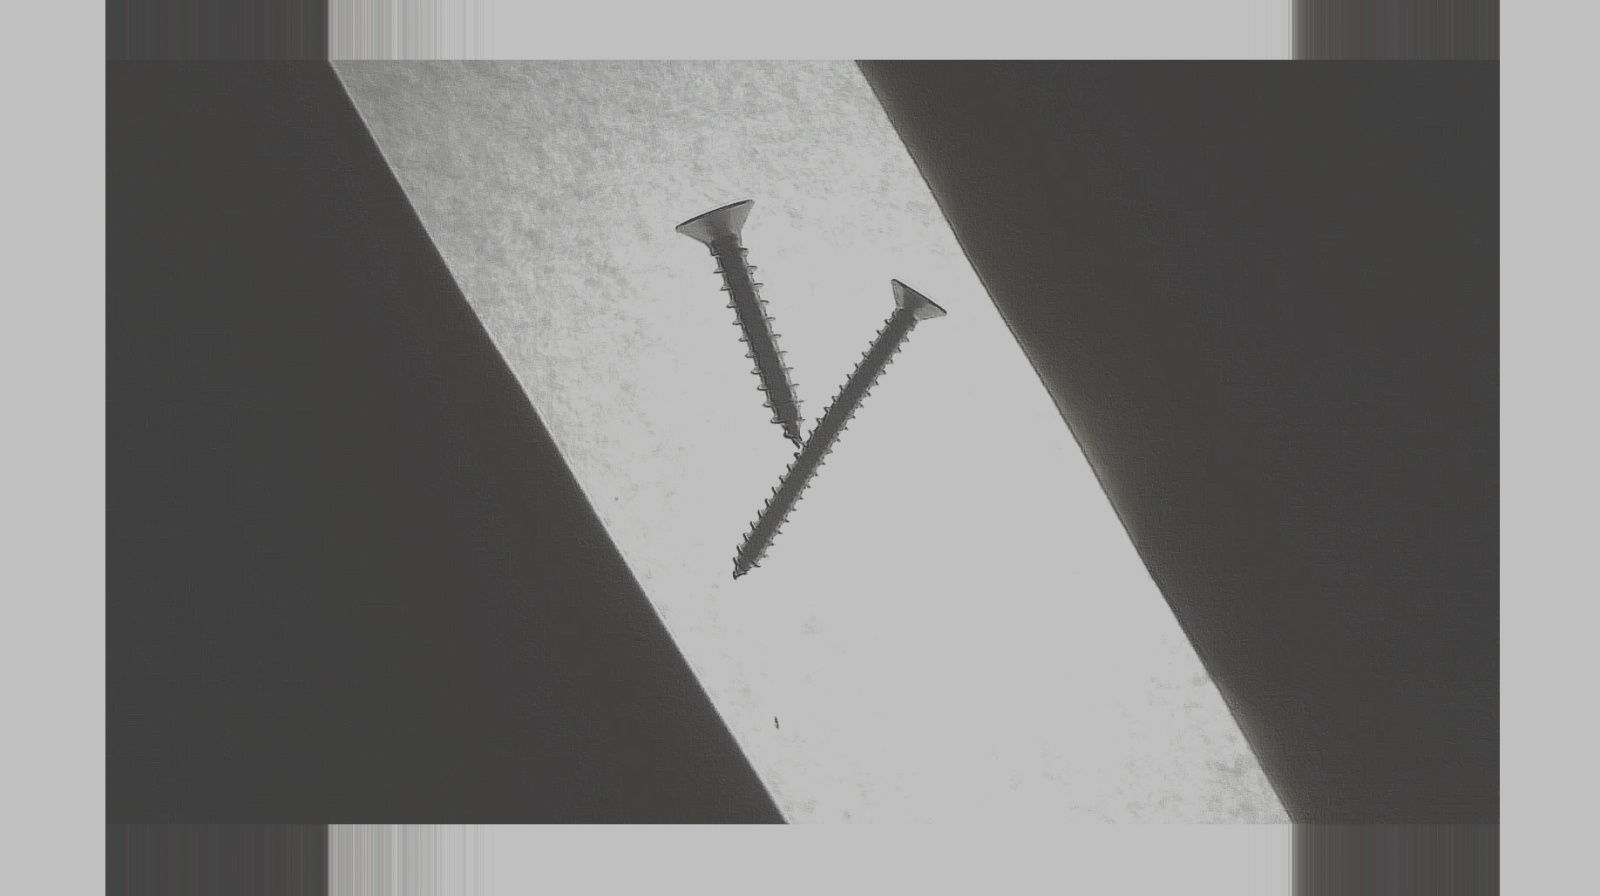S001: (677, 193, 805, 447)
S002: (730, 275, 948, 585)
